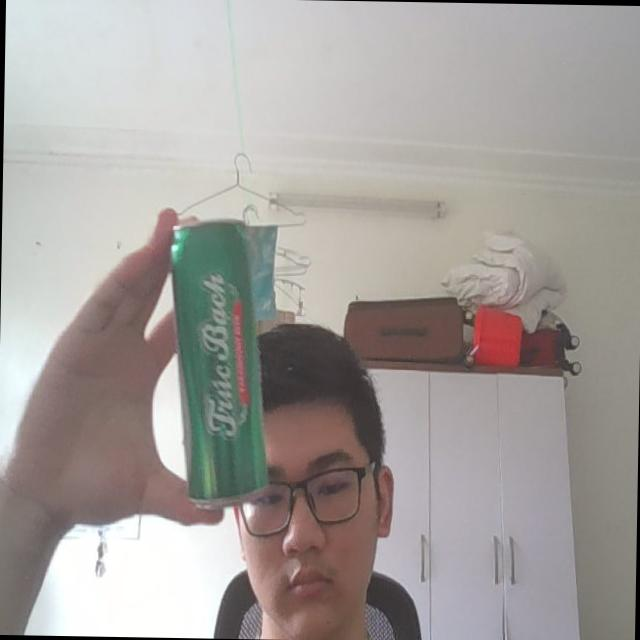Bia-Truc-Bach: (164, 214, 278, 514)
